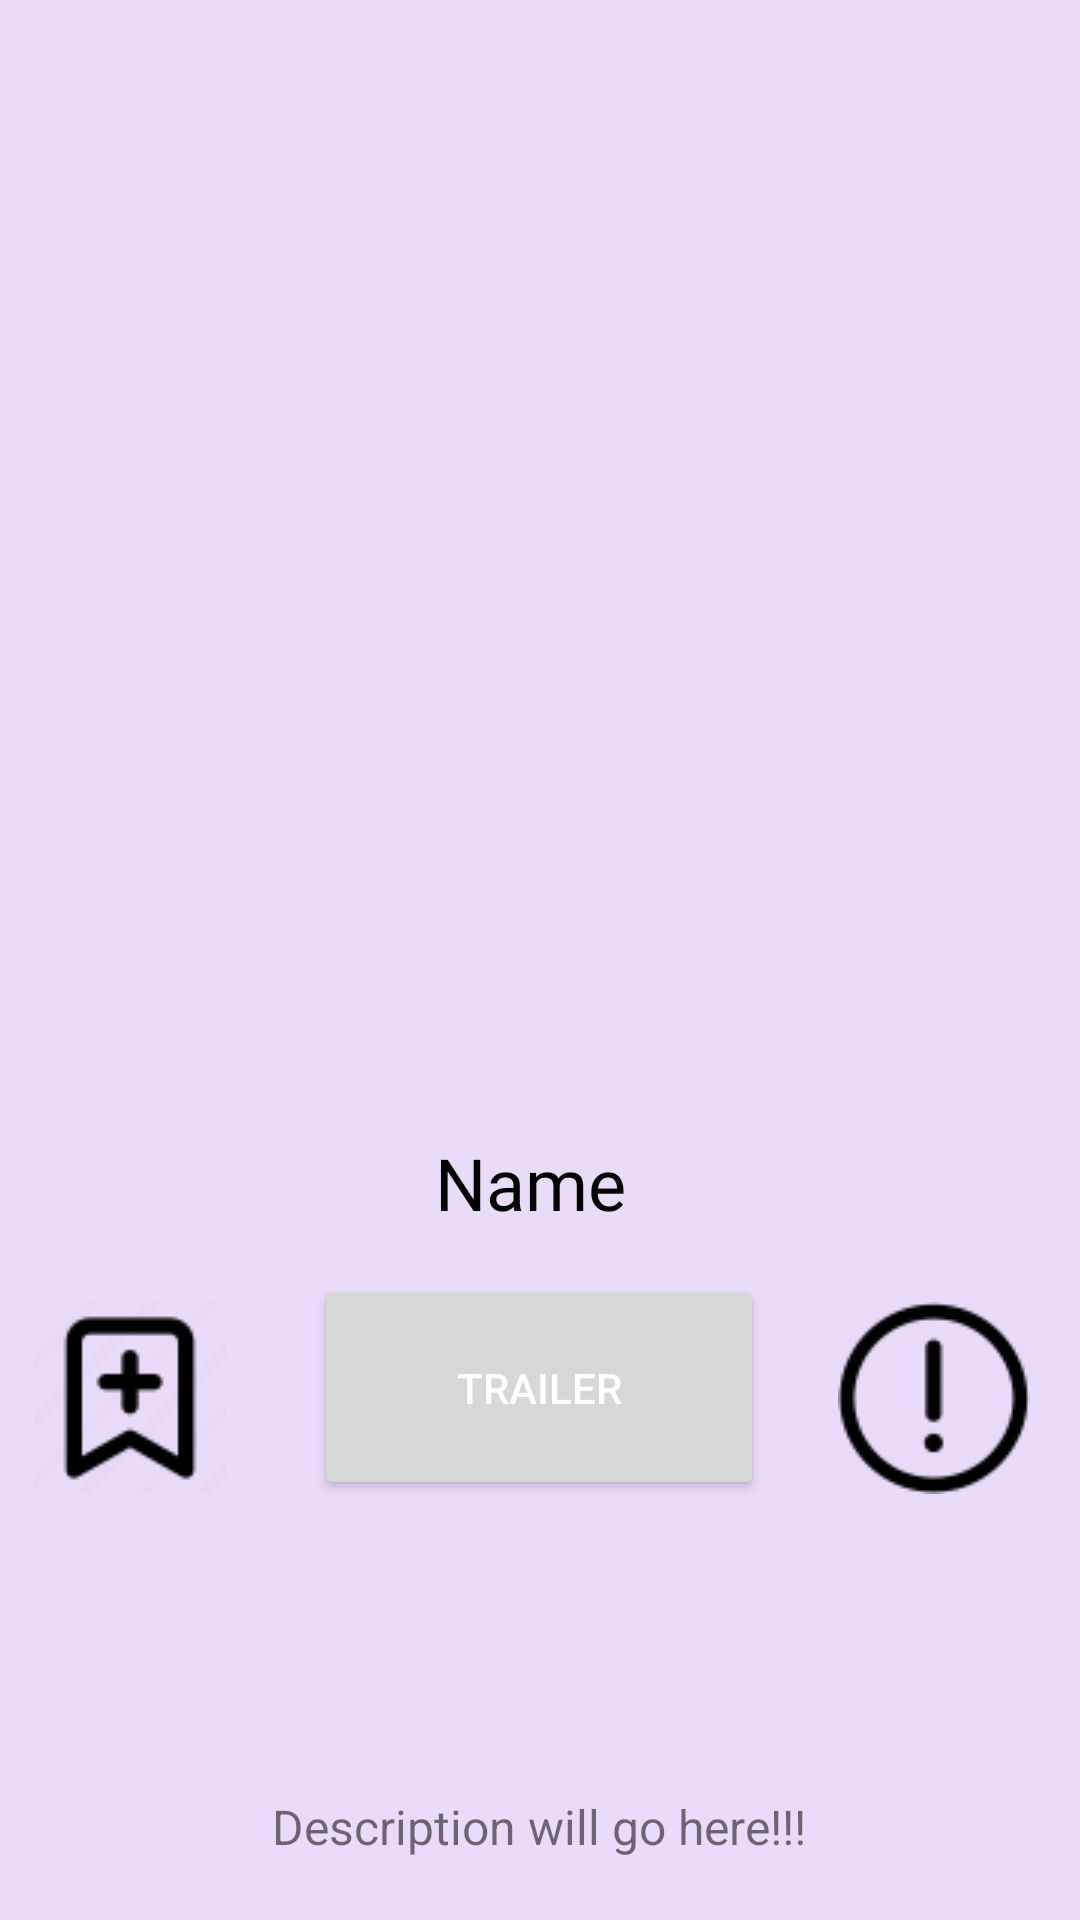

Icons on this 1080px x 1920px Android screen, each with its box as (x1, y1, x2, y2):
watchlist: (63, 1316, 197, 1480)
